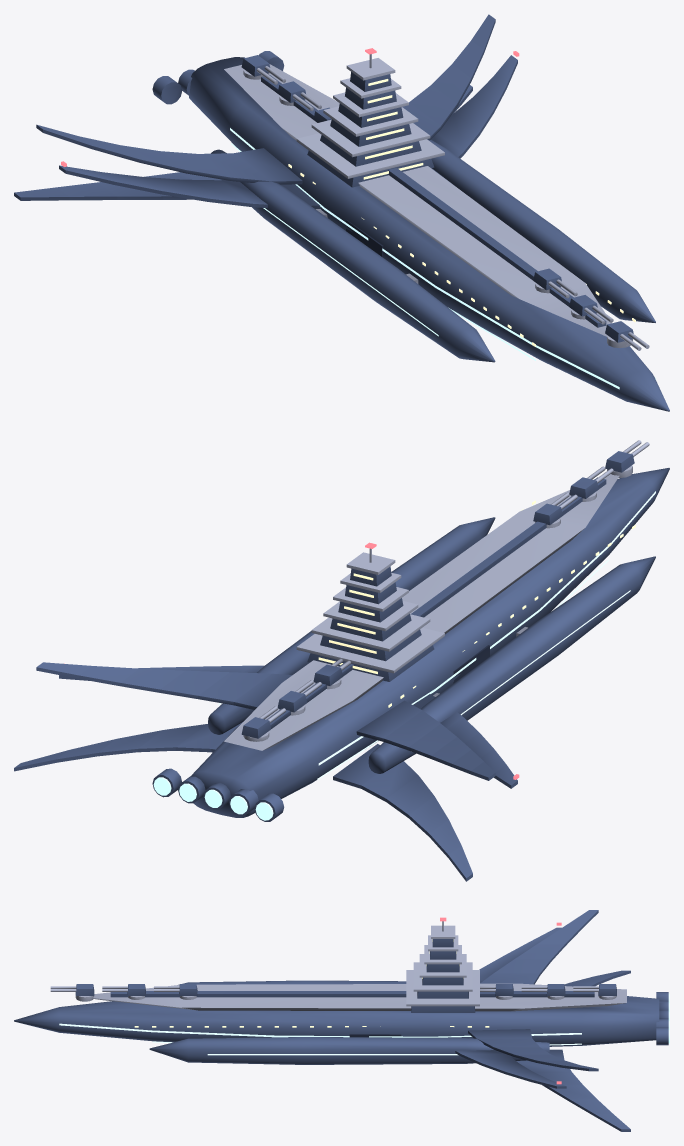
File: dread.glb
3 renders of one model, top to bottom at view 1: azimuth 30°, elevation 25°; view 2: azimuth 150°, elevation 25°; view 3: azimuth 270°, elevation 25°, orthographic. The views are drawn at different scales.
Visible parts, largest first — view 1: dread; view 2: dread; view 3: dread.
Part boxes in pixels (x1=…): dread: x1=14, y1=14, x2=669, y2=411; dread: x1=14, y1=440, x2=669, y2=881; dread: x1=14, y1=910, x2=669, y2=1131.
Size of the model in its own units: 30.45 by 11.89 by 52.86.
